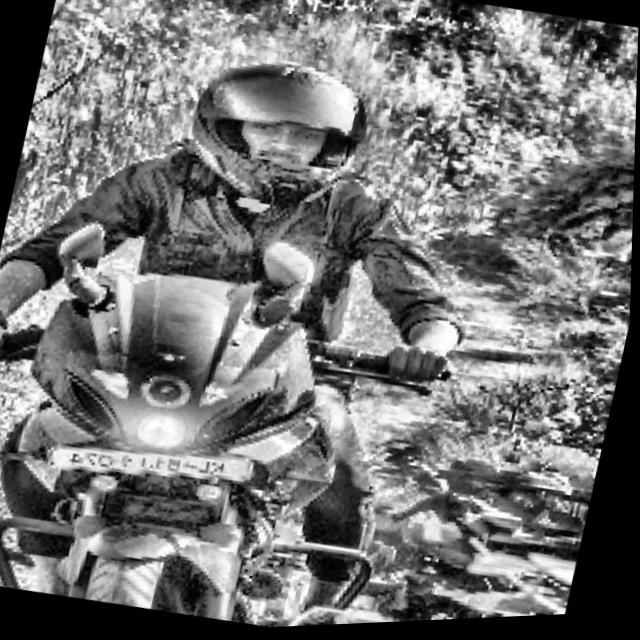motorcycle: (0, 166, 488, 640)
